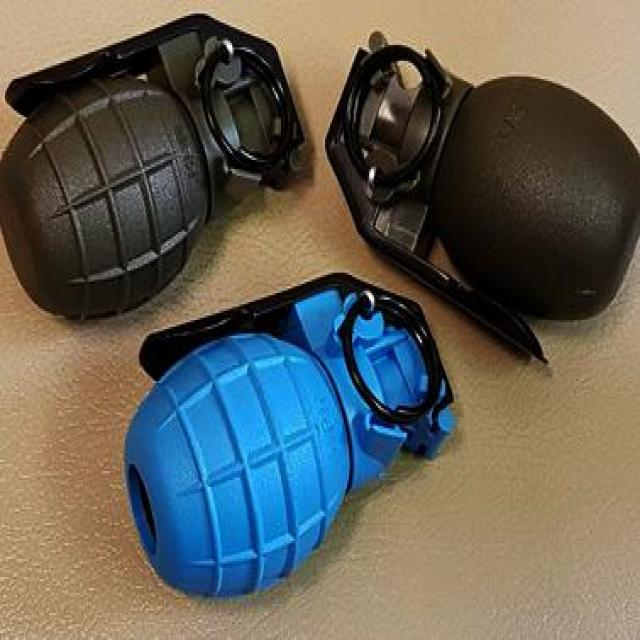grenade: (123, 274, 461, 603), (323, 28, 639, 373), (3, 17, 308, 321)
